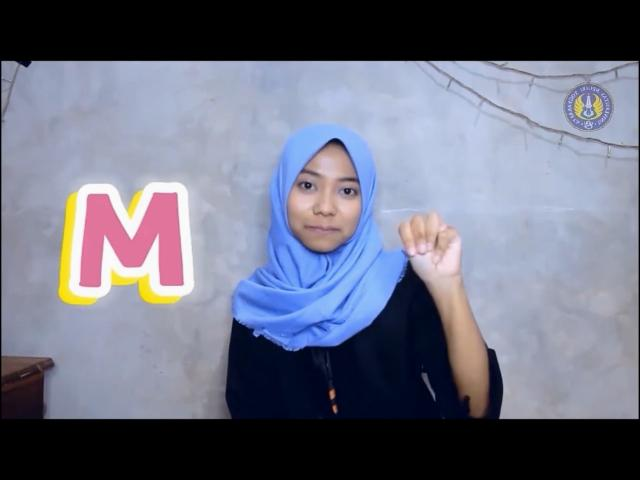M: (398, 214, 464, 284)
